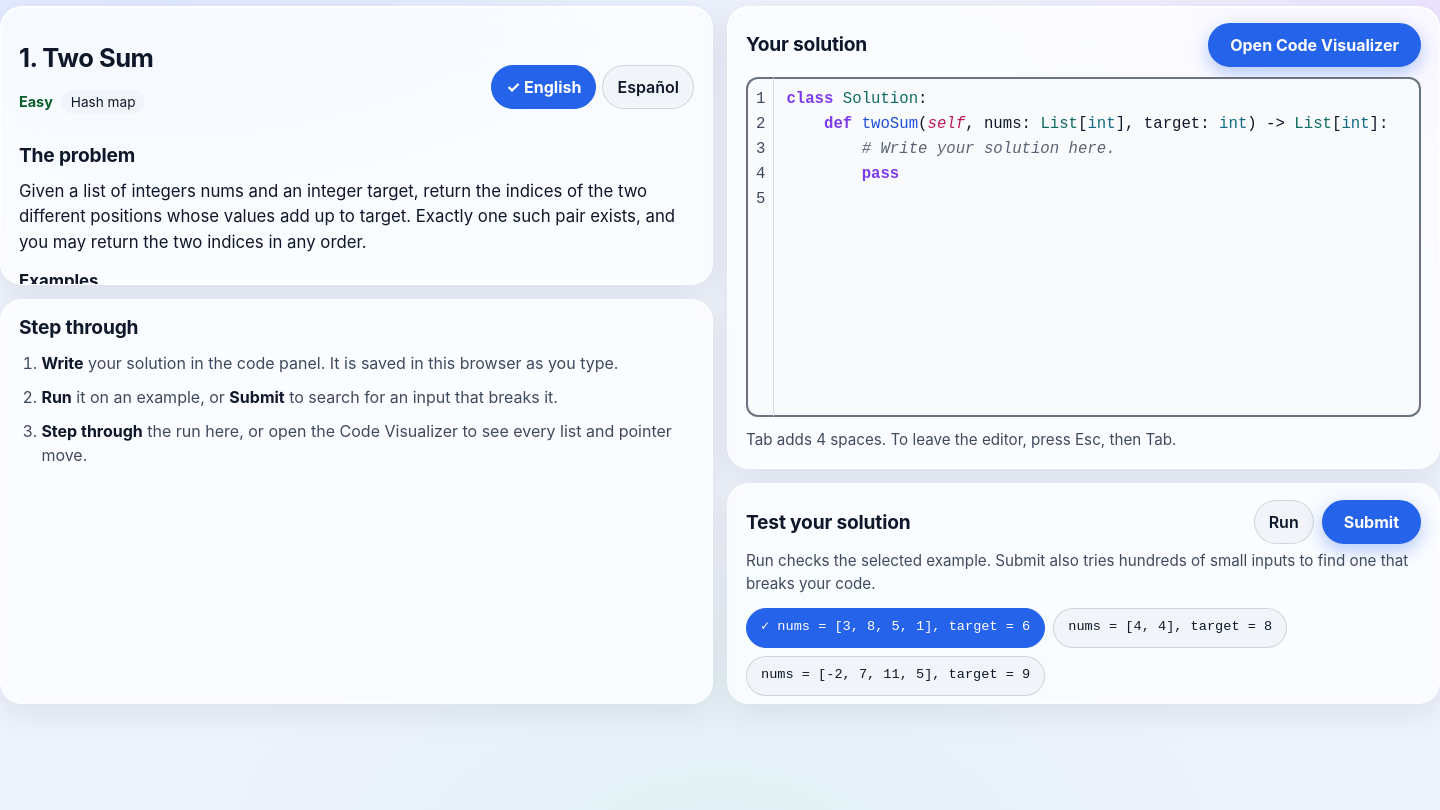
Scenario: Code Visualizer from the problem page › the workspace's Step through panel stays compact: controls, the step's sentence and what changed
Click the button "Run".
click(1284, 522)  # box [1254, 500, 1314, 544]
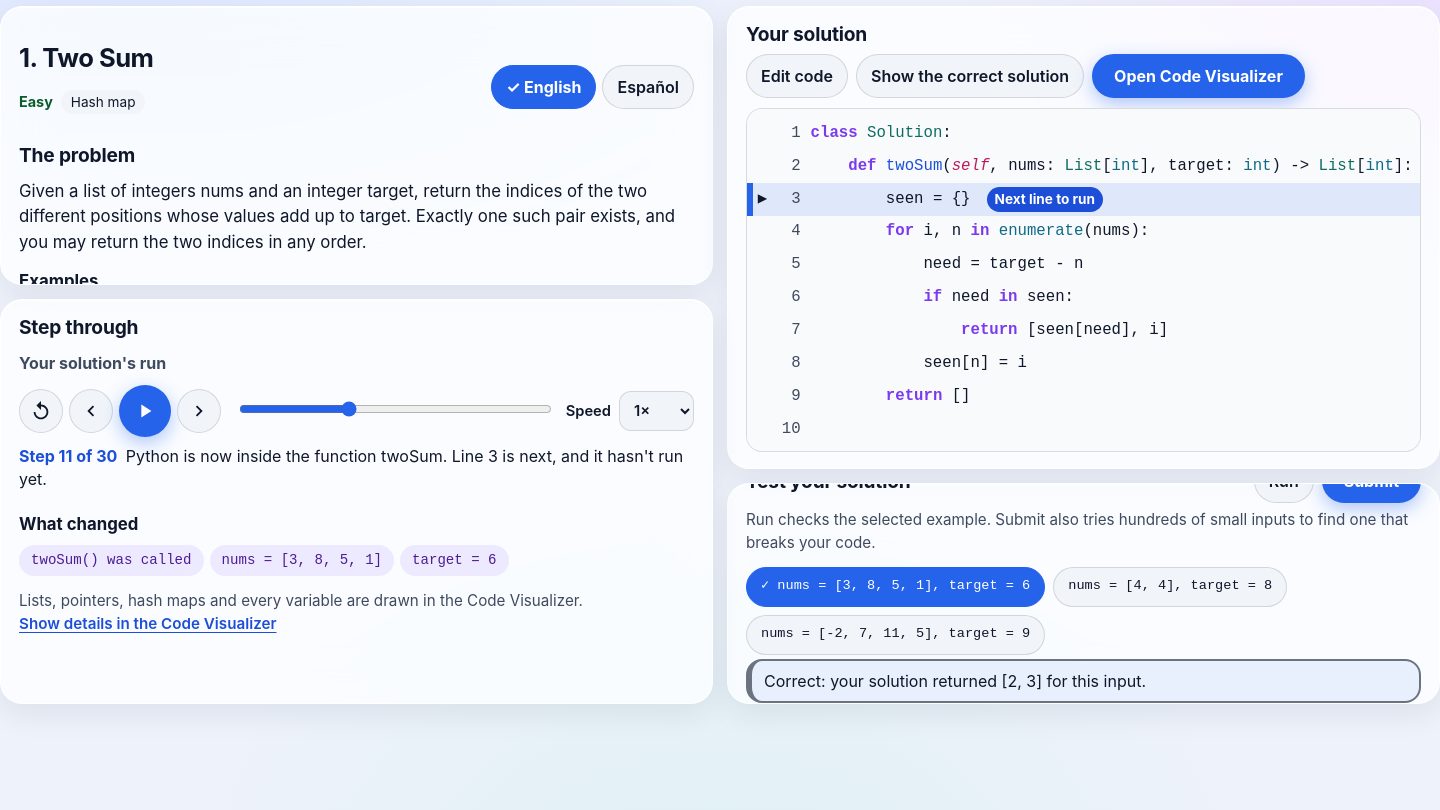
Check: the element "Your solution's run" is shown, box [19, 351, 694, 636]
Check: the element named "Execution controls" is shown, box [19, 385, 694, 492]
Check: the list named "What changed" shows "twoSum() was called", box [31, 552, 192, 568]
Set the slider named "Step" to "11" at (360, 409), box [239, 401, 552, 417]
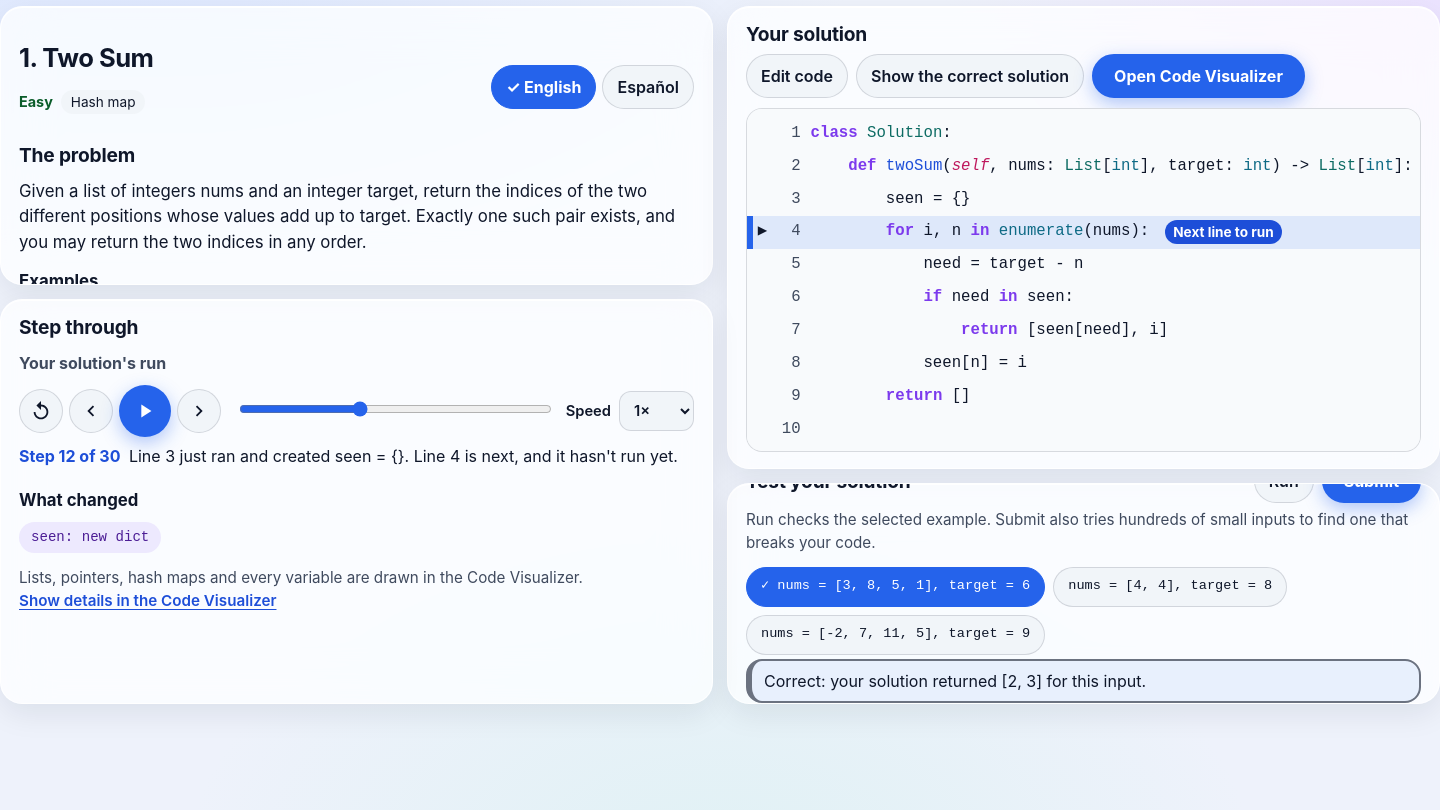
Check: the list named "What changed" reads "seen: new dict", box [31, 529, 149, 545]
